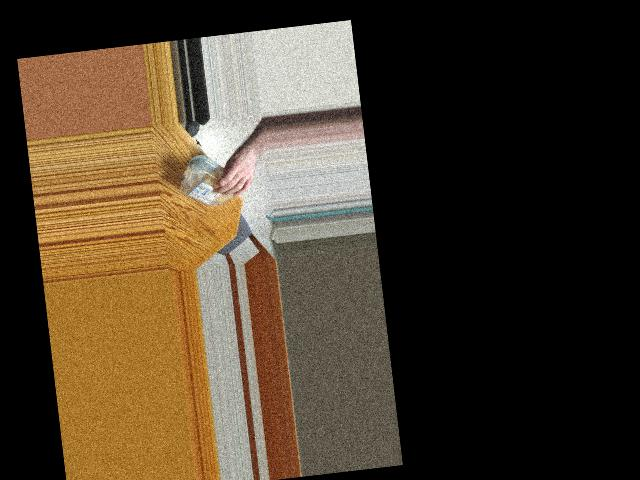cheese: (175, 153, 248, 211)
